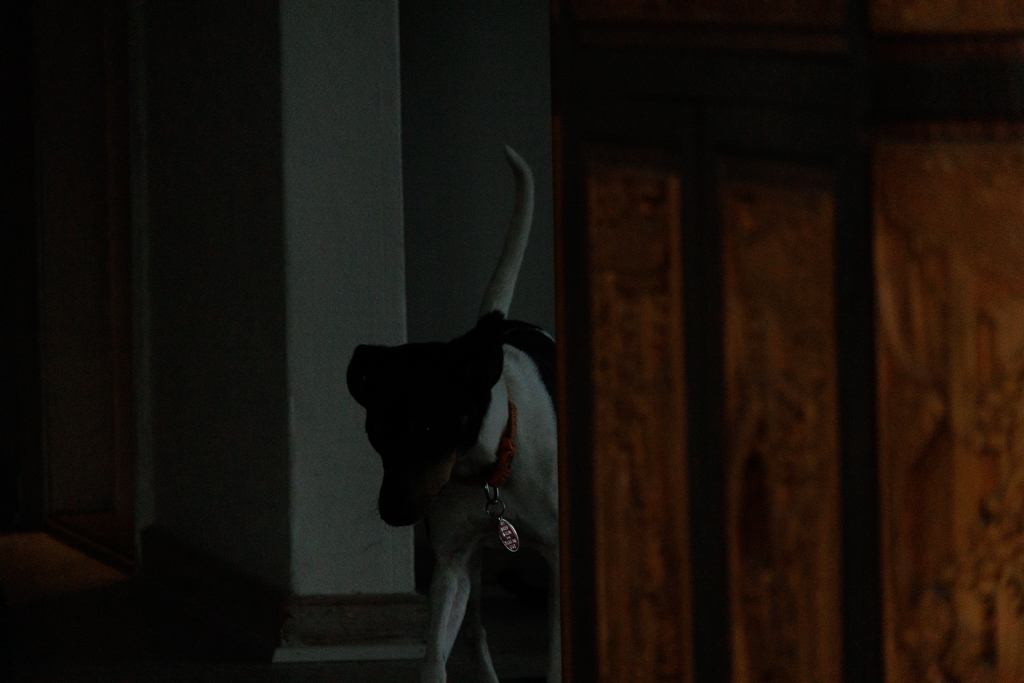Dog: (329, 124, 608, 683)
